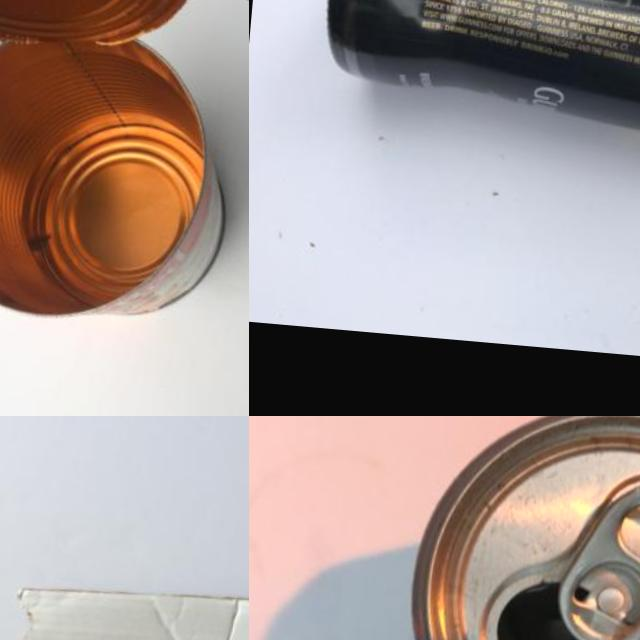aba de lata: (552, 477, 640, 640)
garrafa de vidro: (313, 0, 640, 156)
lata: (0, 0, 244, 334), (397, 416, 640, 640)
papelão: (0, 573, 249, 640)
